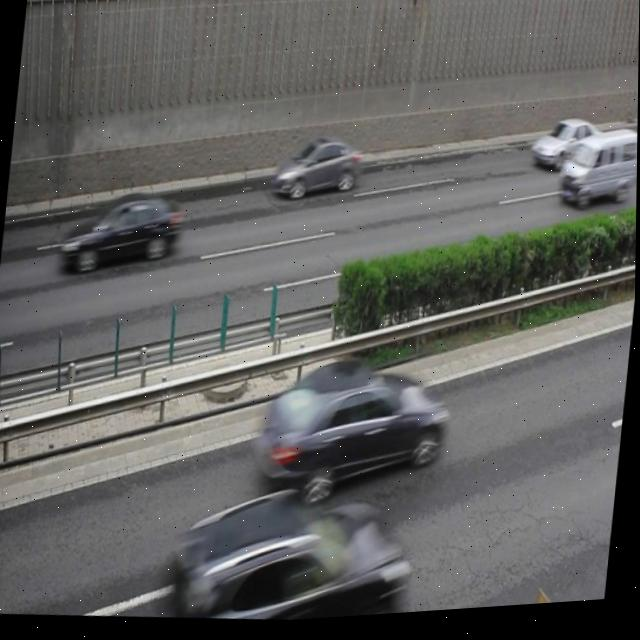car: (156, 474, 409, 631), (251, 349, 453, 513), (57, 186, 184, 281), (270, 134, 363, 209), (527, 120, 604, 182)
truck: (554, 131, 638, 221)
